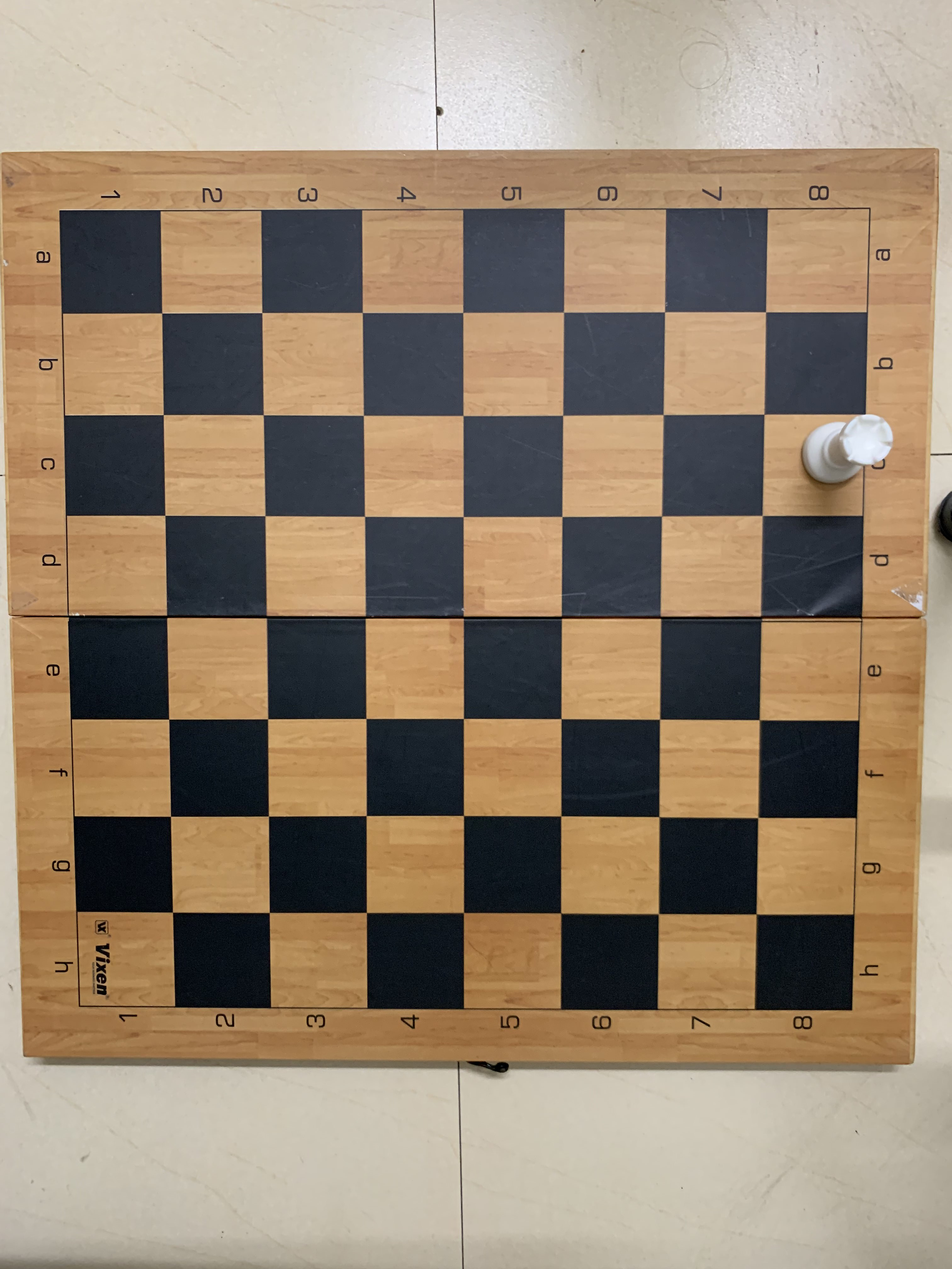white_rook: (762, 411, 896, 517)
